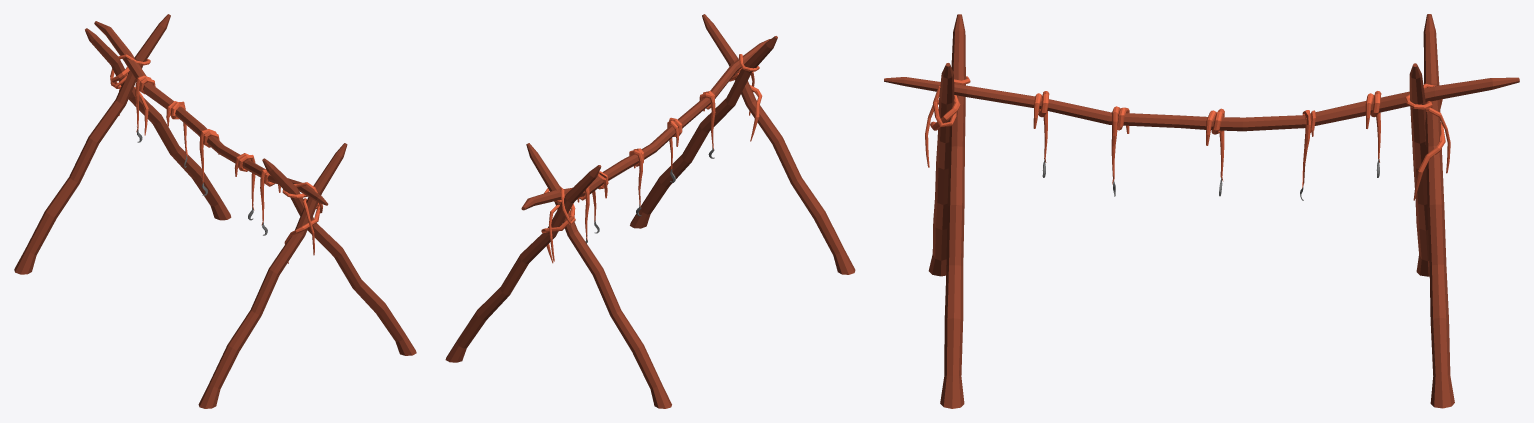
File: DryingRack.fbx
3 renders of one model, left to right at view 1: azimuth 30°, elevation 25°; view 2: azimuth 150°, elevation 25°; view 3: azimuth 270°, elevation 25°, orthographic. The views are drawn at different scales.
Parts seen in each view (by area): view 1: Cylinder.009; view 2: Cylinder.009; view 3: Cylinder.009.
Part boxes in pixels (x1=…): Cylinder.009: x1=14, y1=14, x2=416, y2=408; Cylinder.009: x1=445, y1=14, x2=855, y2=408; Cylinder.009: x1=884, y1=14, x2=1519, y2=408.
Bounding box in the file's own units: 541 × 530 × 1019.
